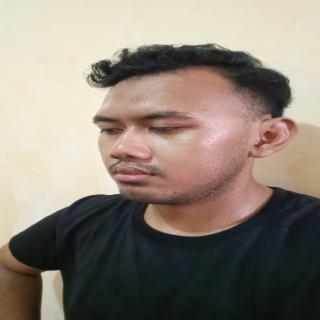Sedih: (91, 76, 252, 203)
